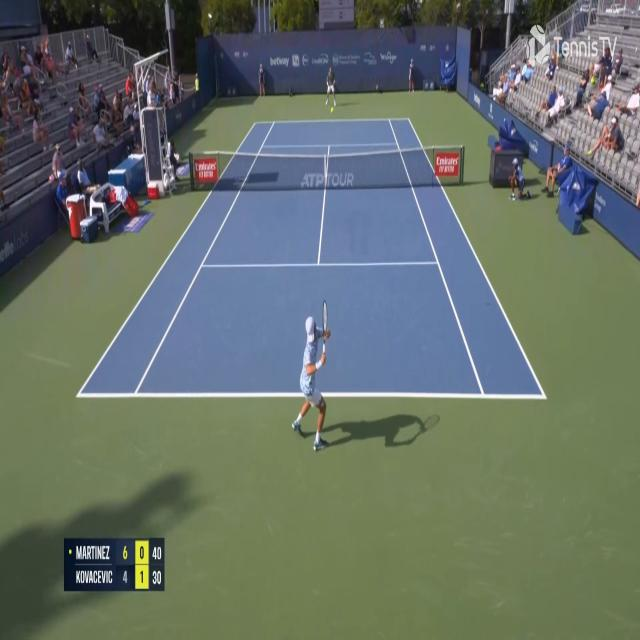tennis-player: (291, 297, 334, 454), (324, 62, 338, 111)
